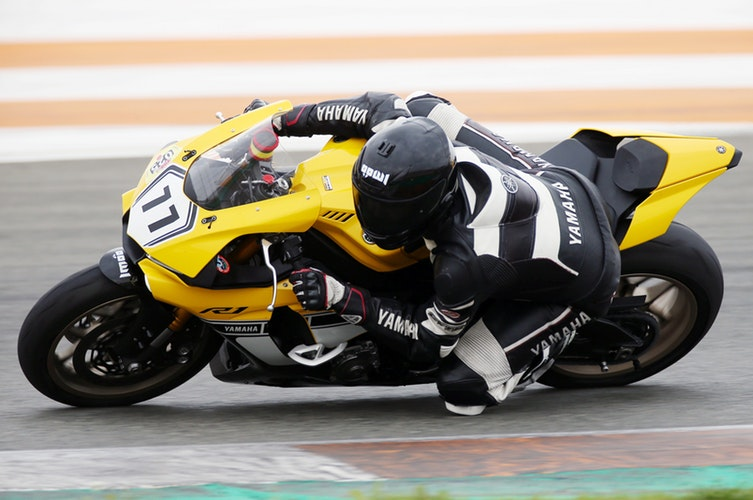helmet: (353, 116, 457, 236)
